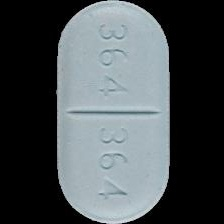69189-9364: (0, 0, 224, 224)
